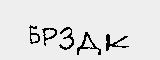Б: (26, 25, 43, 45)
Д: (76, 32, 102, 56)
З: (58, 27, 76, 49)
К: (106, 33, 129, 51)
Р: (41, 26, 58, 48)
